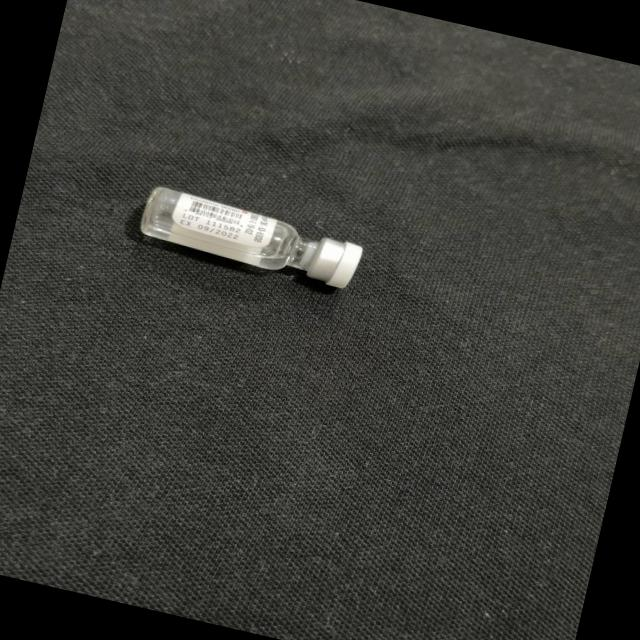fentanl_citrat: (138, 184, 362, 289)
